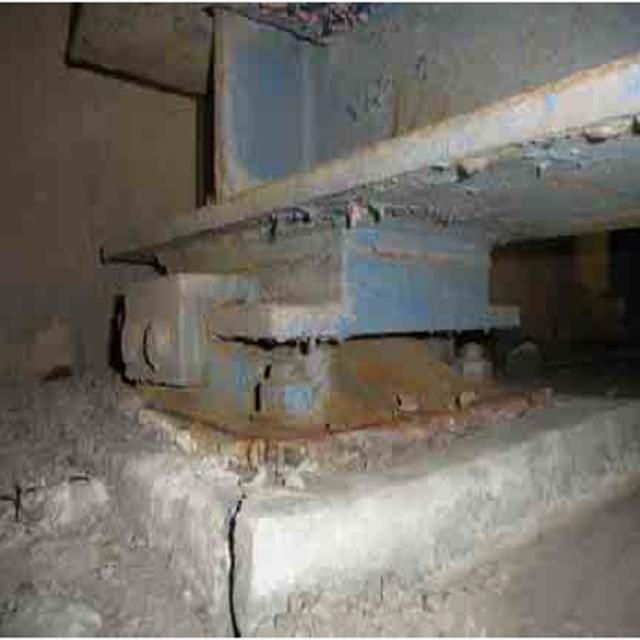corrosion: (146, 316, 493, 436)
